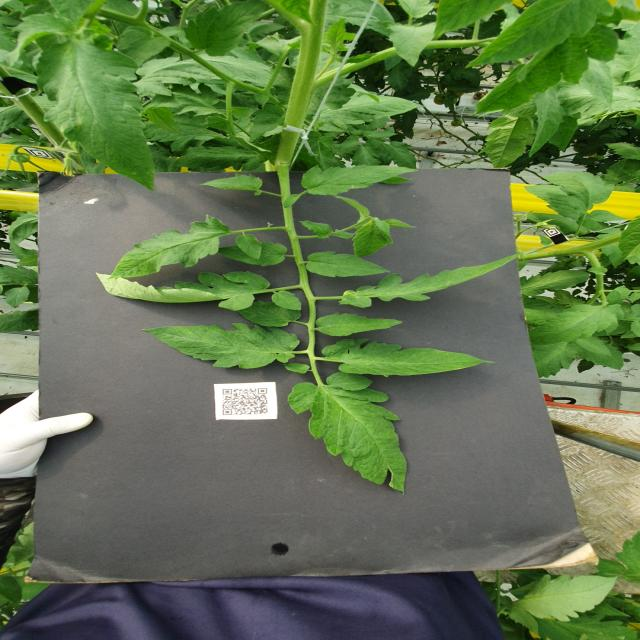Healthy Leaf: (288, 373, 408, 496), (473, 25, 620, 117), (340, 253, 526, 309), (466, 1, 616, 70), (108, 215, 232, 281), (95, 271, 272, 312), (144, 324, 301, 370), (509, 575, 619, 636), (138, 56, 286, 98), (184, 1, 265, 57), (10, 13, 80, 67), (315, 93, 426, 126), (302, 166, 420, 197), (529, 305, 620, 345), (545, 172, 615, 216), (528, 86, 567, 158), (486, 117, 535, 171), (174, 147, 262, 173), (306, 252, 392, 278), (389, 23, 438, 68), (525, 185, 585, 221), (317, 314, 405, 338), (581, 58, 615, 113), (520, 271, 591, 297), (533, 341, 579, 379), (239, 301, 303, 328), (219, 243, 289, 267), (199, 174, 264, 197), (354, 221, 394, 258), (250, 104, 286, 143), (8, 213, 39, 245), (577, 337, 614, 358), (237, 235, 263, 261), (300, 221, 335, 240), (605, 143, 640, 161), (6, 286, 32, 310), (273, 291, 303, 311), (353, 147, 383, 167), (589, 211, 628, 224), (607, 286, 633, 305), (365, 131, 400, 139)
